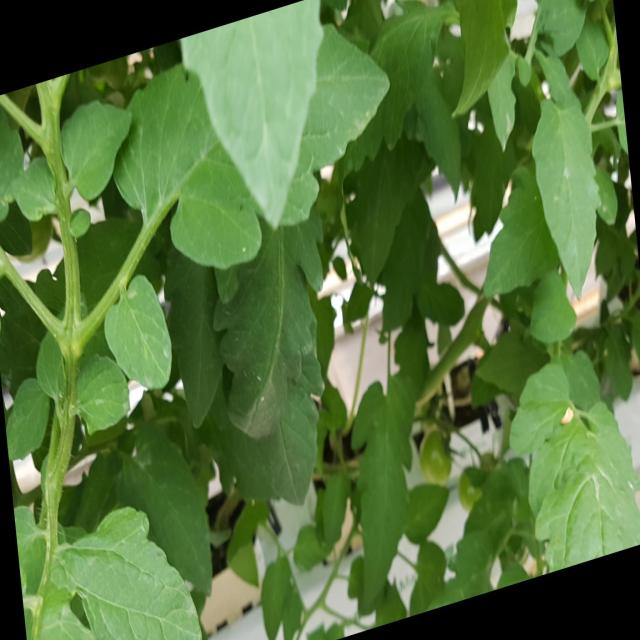Healthy Leaf: (57, 502, 204, 640), (346, 357, 422, 610), (531, 91, 599, 298), (101, 271, 175, 393), (59, 94, 134, 204)
